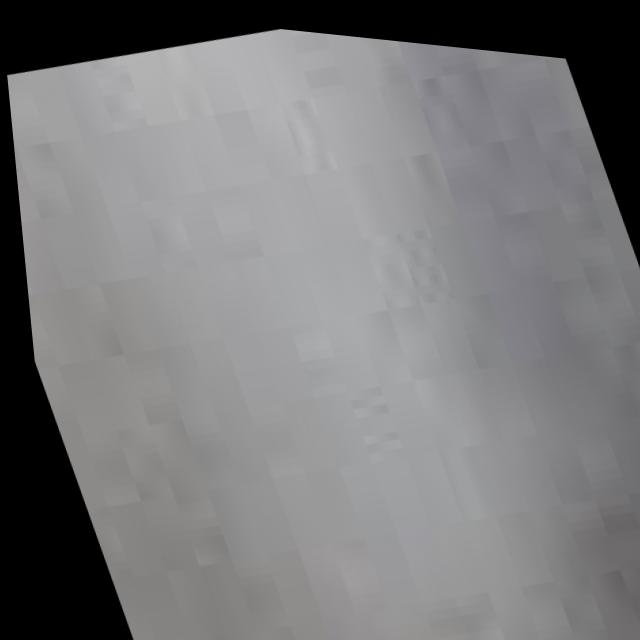metal-plates: (7, 24, 640, 640)
